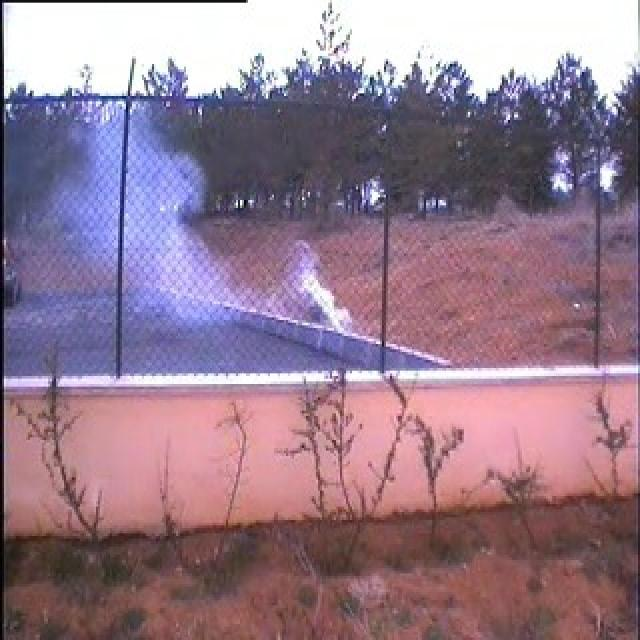Smoke: (52, 108, 232, 328), (299, 240, 354, 332)
